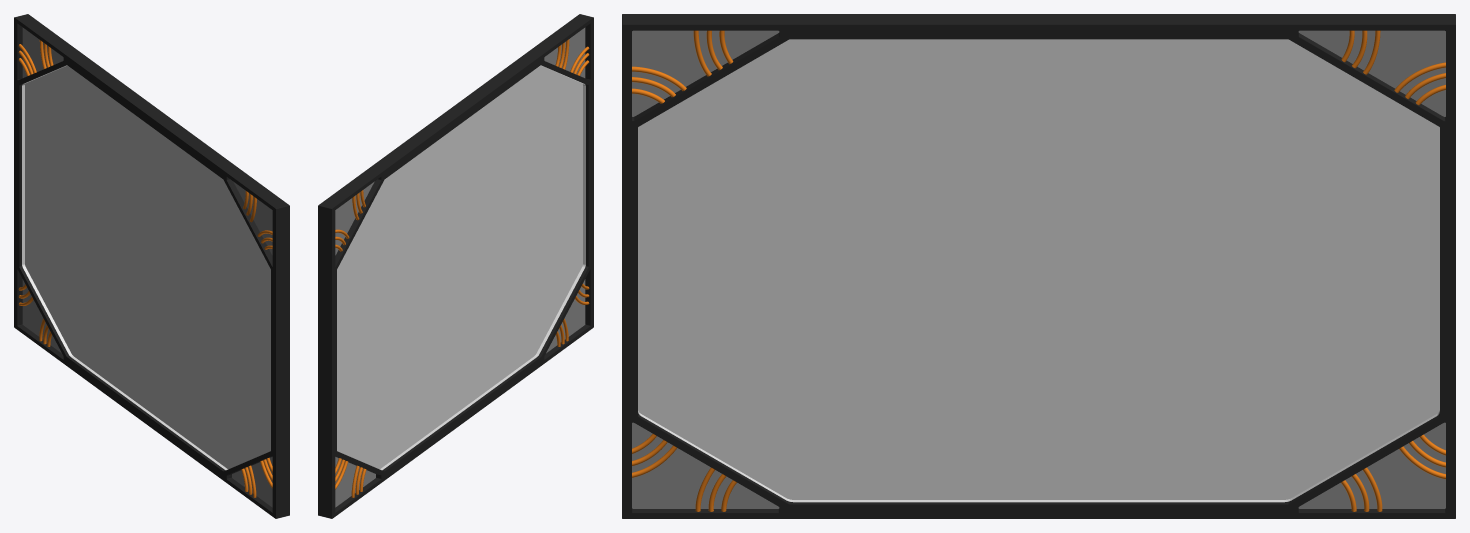
File: VetrataScale1.fbx
The picture shows the model from 3 angles, left to right: view 1: azimuth 30°, elevation 25°; view 2: azimuth 150°, elevation 25°; view 3: azimuth 270°, elevation 25°; orthographic projection. The views are drawn at different scales.
Parts seen in each view (by area): view 1: Glass, Telaio, Insects, LED; view 2: Glass, Telaio, Insects, LED; view 3: Glass, Telaio, Insects, LED.
Part boxes in pixels (x1,y1,x2,y2): Glass: (25, 65, 270, 469); Telaio: (14, 14, 289, 518); Insects: (22, 27, 272, 507); LED: (22, 65, 227, 470); Glass: (337, 65, 582, 469); Telaio: (318, 14, 593, 518); Insects: (335, 27, 585, 507); LED: (380, 65, 585, 470); Glass: (638, 39, 1439, 499); Telaio: (622, 14, 1455, 518); Insects: (632, 30, 1445, 508); LED: (638, 410, 1439, 502).
Bounding box in the file's own units: 20 × 425 × 650.
